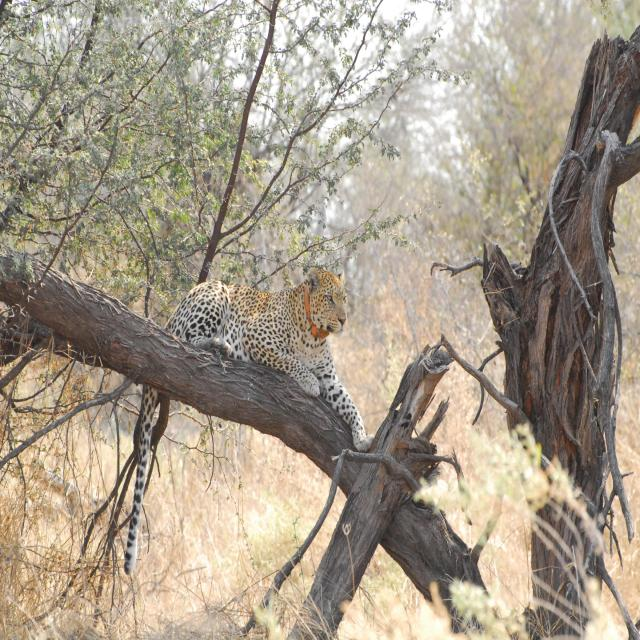Leopard: (132, 274, 351, 565)
